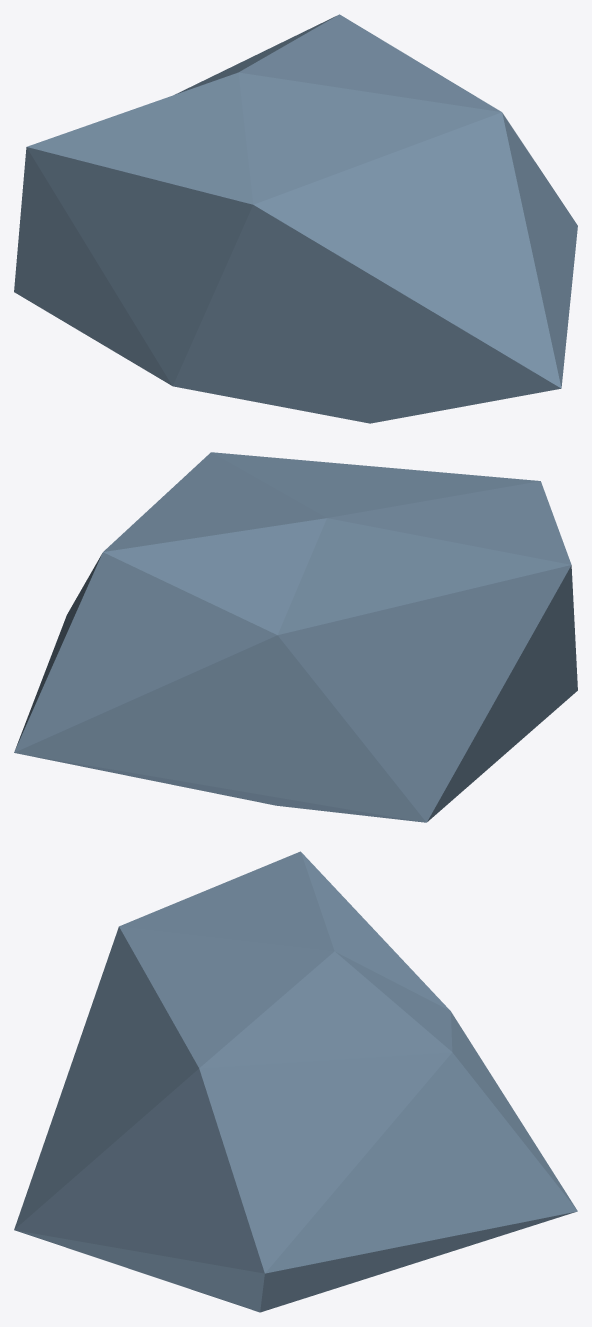
The model's file is Rock_4.fbx.
3 renders of one model, top to bottom at view 1: azimuth 30°, elevation 25°; view 2: azimuth 150°, elevation 25°; view 3: azimuth 270°, elevation 25°, orthographic. The views are drawn at different scales.
Visible parts, largest first — view 1: M_Rock 4; view 2: M_Rock 4; view 3: M_Rock 4.
Part boxes in pixels (box(x1,y1,x2,y2)): M_Rock 4: box(14, 14, 577, 423); M_Rock 4: box(14, 452, 577, 822); M_Rock 4: box(14, 851, 577, 1312).
Size of the model in its own units: 53.03 by 32.76 by 52.37.
1 material, 1 textured.
